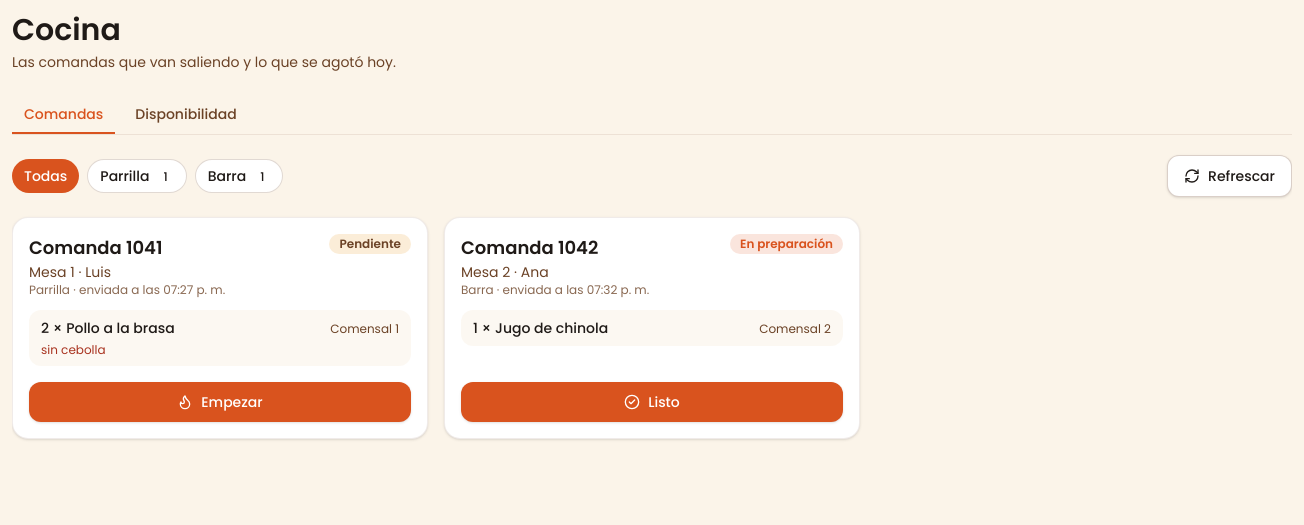
Cocina › empezar una comanda la deja en preparación
Expected: the text "Comanda 1041" is shown, [29,235,162,260]
Step 1. Click the button with aria-label "Empezar la comanda 1041" → (220,402), box [29,382,411,422]
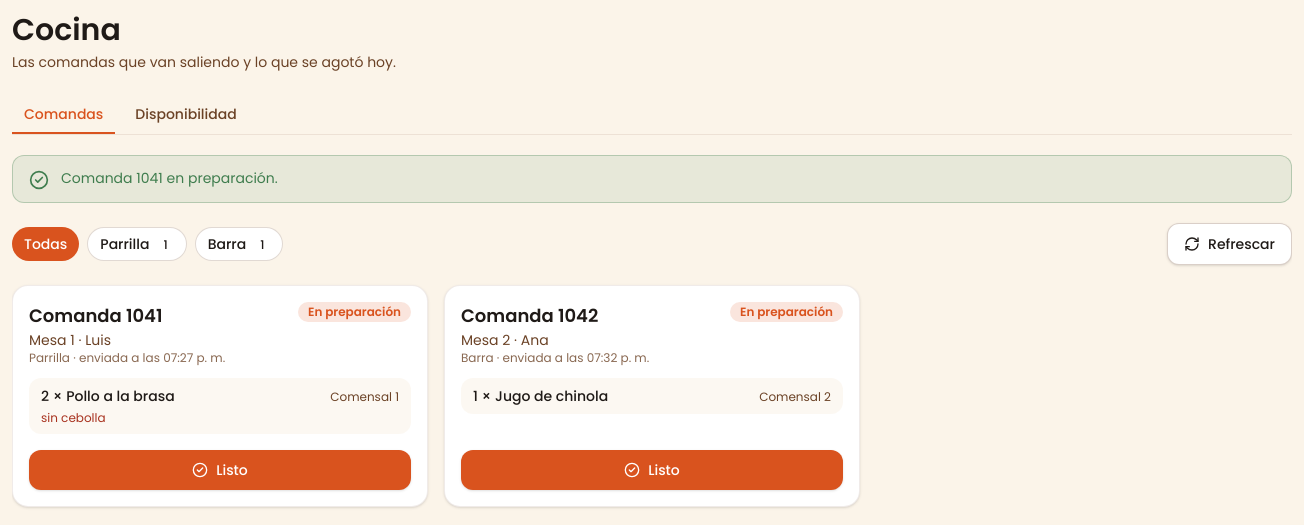
Now the button with aria-label "Marcar lista la comanda 1041" is shown, box [29,450,411,490]
